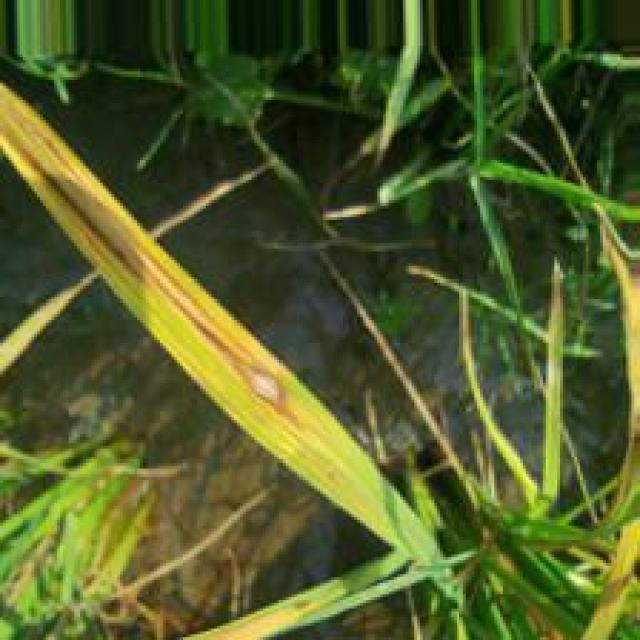Leaf_Blast: (68, 185, 301, 418)
